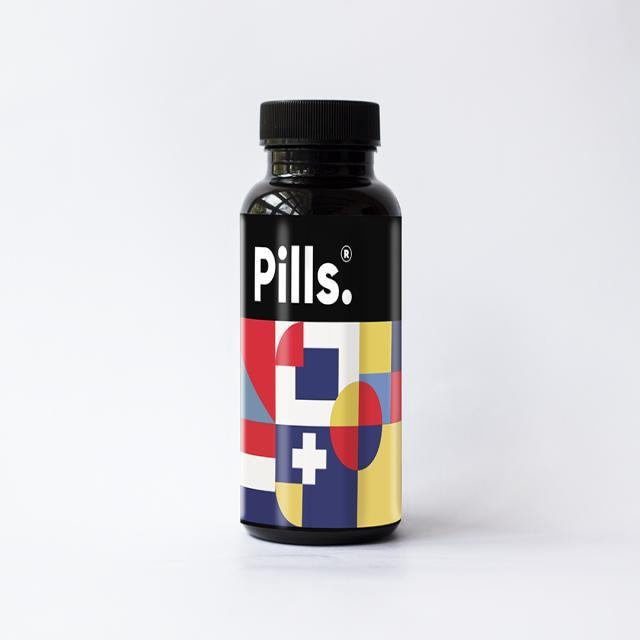jar: (236, 100, 404, 550)
